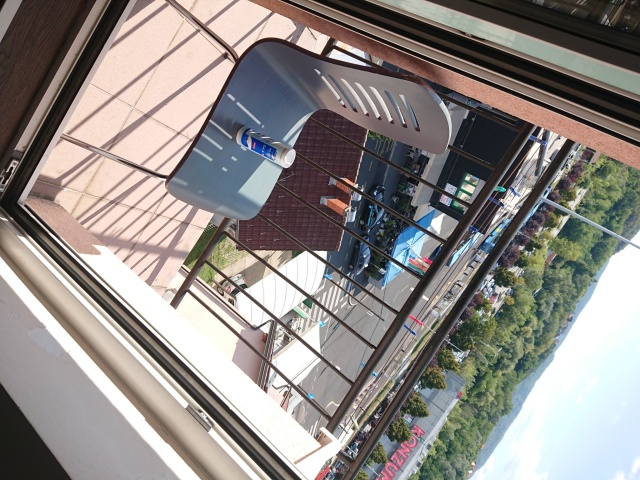Solana Pag Fine Sea Salt 250g: (233, 124, 298, 171)
